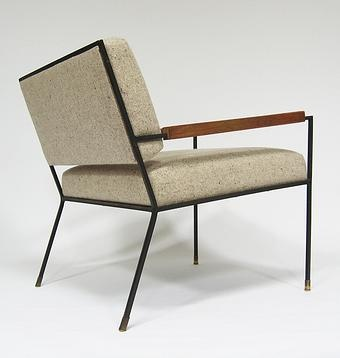obstacle: (19, 38, 312, 330)
